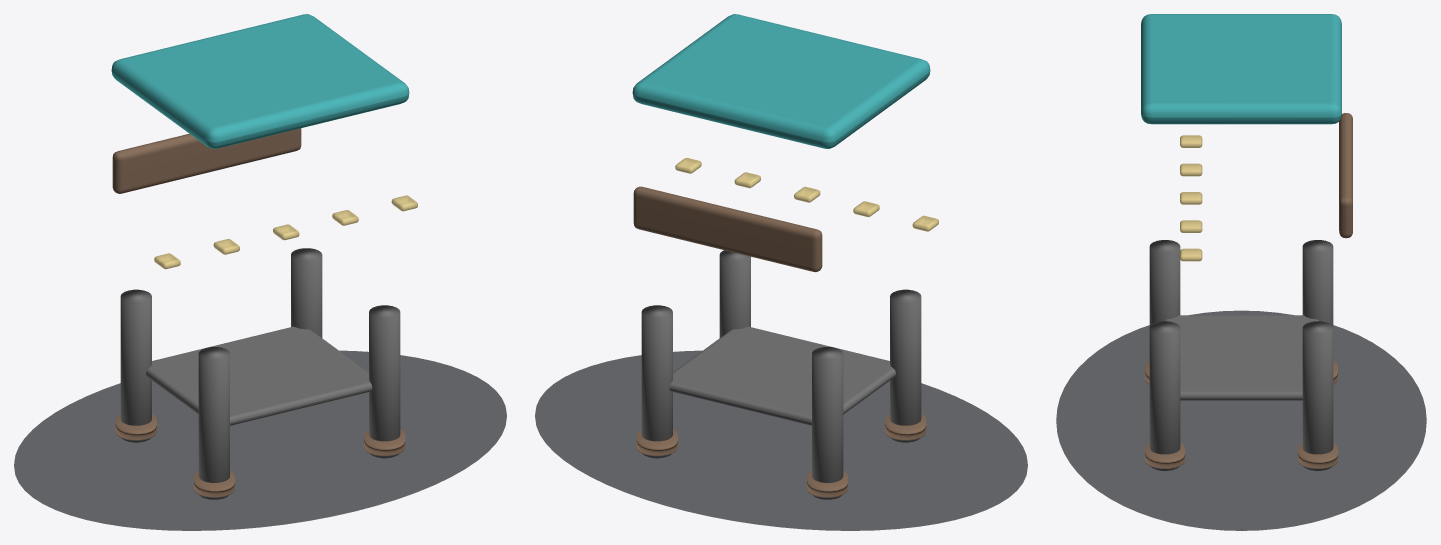
Rendered from compact-clockwork-reading-chair.glb.
The picture shows the model from 3 angles, left to right: view 1: azimuth 30°, elevation 25°; view 2: azimuth 150°, elevation 25°; view 3: azimuth 270°, elevation 25°; orthographic projection. The views are drawn at different scales.
Visible parts, largest first — view 1: PROP_AgentFurniture_ContactShadow, PROP_AgentFurniture_Tabletop, PROP_AgentFurniture_LowerShelf, PROP_AgentFurniture_BackRail, PROP_AgentFurniture_TaperedLeg, PROP_AgentFurniture_TaperedLeg.002, PROP_AgentFurniture_TaperedLeg.001, PROP_AgentFurniture_TaperedLeg.003, PROP_AgentFurniture_FootCap.002, PROP_AgentFurniture_FootCap.001, PROP_AgentFurniture_FootCap; view 2: PROP_AgentFurniture_ContactShadow, PROP_AgentFurniture_Tabletop, PROP_AgentFurniture_LowerShelf, PROP_AgentFurniture_BackRail, PROP_AgentFurniture_TaperedLeg.001, PROP_AgentFurniture_TaperedLeg.003, PROP_AgentFurniture_TaperedLeg, PROP_AgentFurniture_TaperedLeg.002, PROP_AgentFurniture_FootCap.003, PROP_AgentFurniture_FootCap, PROP_AgentFurniture_FootCap.001; view 3: PROP_AgentFurniture_ContactShadow, PROP_AgentFurniture_Tabletop, PROP_AgentFurniture_LowerShelf, PROP_AgentFurniture_TaperedLeg.002, PROP_AgentFurniture_TaperedLeg.003, PROP_AgentFurniture_TaperedLeg.001, PROP_AgentFurniture_TaperedLeg, PROP_AgentFurniture_BackRail, PROP_AgentFurniture_FootCap.002, PROP_AgentFurniture_FootCap.003.
Part boxes in pixels (bbox=[...]): PROP_AgentFurniture_ContactShadow: bbox=[14, 350, 506, 530]; PROP_AgentFurniture_Tabletop: bbox=[111, 14, 409, 148]; PROP_AgentFurniture_LowerShelf: bbox=[146, 326, 372, 425]; PROP_AgentFurniture_BackRail: bbox=[112, 128, 301, 193]; PROP_AgentFurniture_TaperedLeg: bbox=[198, 347, 229, 499]; PROP_AgentFurniture_TaperedLeg.002: bbox=[369, 305, 400, 457]; PROP_AgentFurniture_TaperedLeg.001: bbox=[120, 289, 151, 442]; PROP_AgentFurniture_TaperedLeg.003: bbox=[291, 248, 322, 337]; PROP_AgentFurniture_FootCap.002: bbox=[364, 429, 405, 456]; PROP_AgentFurniture_FootCap.001: bbox=[115, 414, 156, 440]; PROP_AgentFurniture_FootCap: bbox=[194, 471, 234, 497]; PROP_AgentFurniture_ContactShadow: bbox=[535, 350, 1027, 530]; PROP_AgentFurniture_Tabletop: bbox=[632, 14, 930, 148]; PROP_AgentFurniture_LowerShelf: bbox=[669, 326, 895, 425]; PROP_AgentFurniture_BackRail: bbox=[633, 186, 822, 272]; PROP_AgentFurniture_TaperedLeg.001: bbox=[812, 347, 843, 499]; PROP_AgentFurniture_TaperedLeg.003: bbox=[641, 305, 672, 457]; PROP_AgentFurniture_TaperedLeg: bbox=[890, 289, 921, 442]; PROP_AgentFurniture_TaperedLeg.002: bbox=[719, 250, 750, 337]; PROP_AgentFurniture_FootCap.003: bbox=[636, 429, 677, 456]; PROP_AgentFurniture_FootCap: bbox=[885, 414, 926, 440]; PROP_AgentFurniture_FootCap.001: bbox=[807, 471, 847, 497]; PROP_AgentFurniture_ContactShadow: bbox=[1056, 310, 1426, 530]; PROP_AgentFurniture_Tabletop: bbox=[1141, 14, 1341, 124]; PROP_AgentFurniture_LowerShelf: bbox=[1164, 315, 1318, 400]; PROP_AgentFurniture_TaperedLeg.002: bbox=[1149, 321, 1180, 470]; PROP_AgentFurniture_TaperedLeg.003: bbox=[1302, 321, 1333, 470]; PROP_AgentFurniture_TaperedLeg.001: bbox=[1302, 240, 1333, 326]; PROP_AgentFurniture_TaperedLeg: bbox=[1149, 240, 1180, 326]; PROP_AgentFurniture_BackRail: bbox=[1339, 113, 1352, 238]; PROP_AgentFurniture_FootCap.002: bbox=[1145, 443, 1184, 468]; PROP_AgentFurniture_FootCap.003: bbox=[1298, 443, 1337, 468].
Size of the model in its own units: 1.84 by 1.44 by 1.32.
